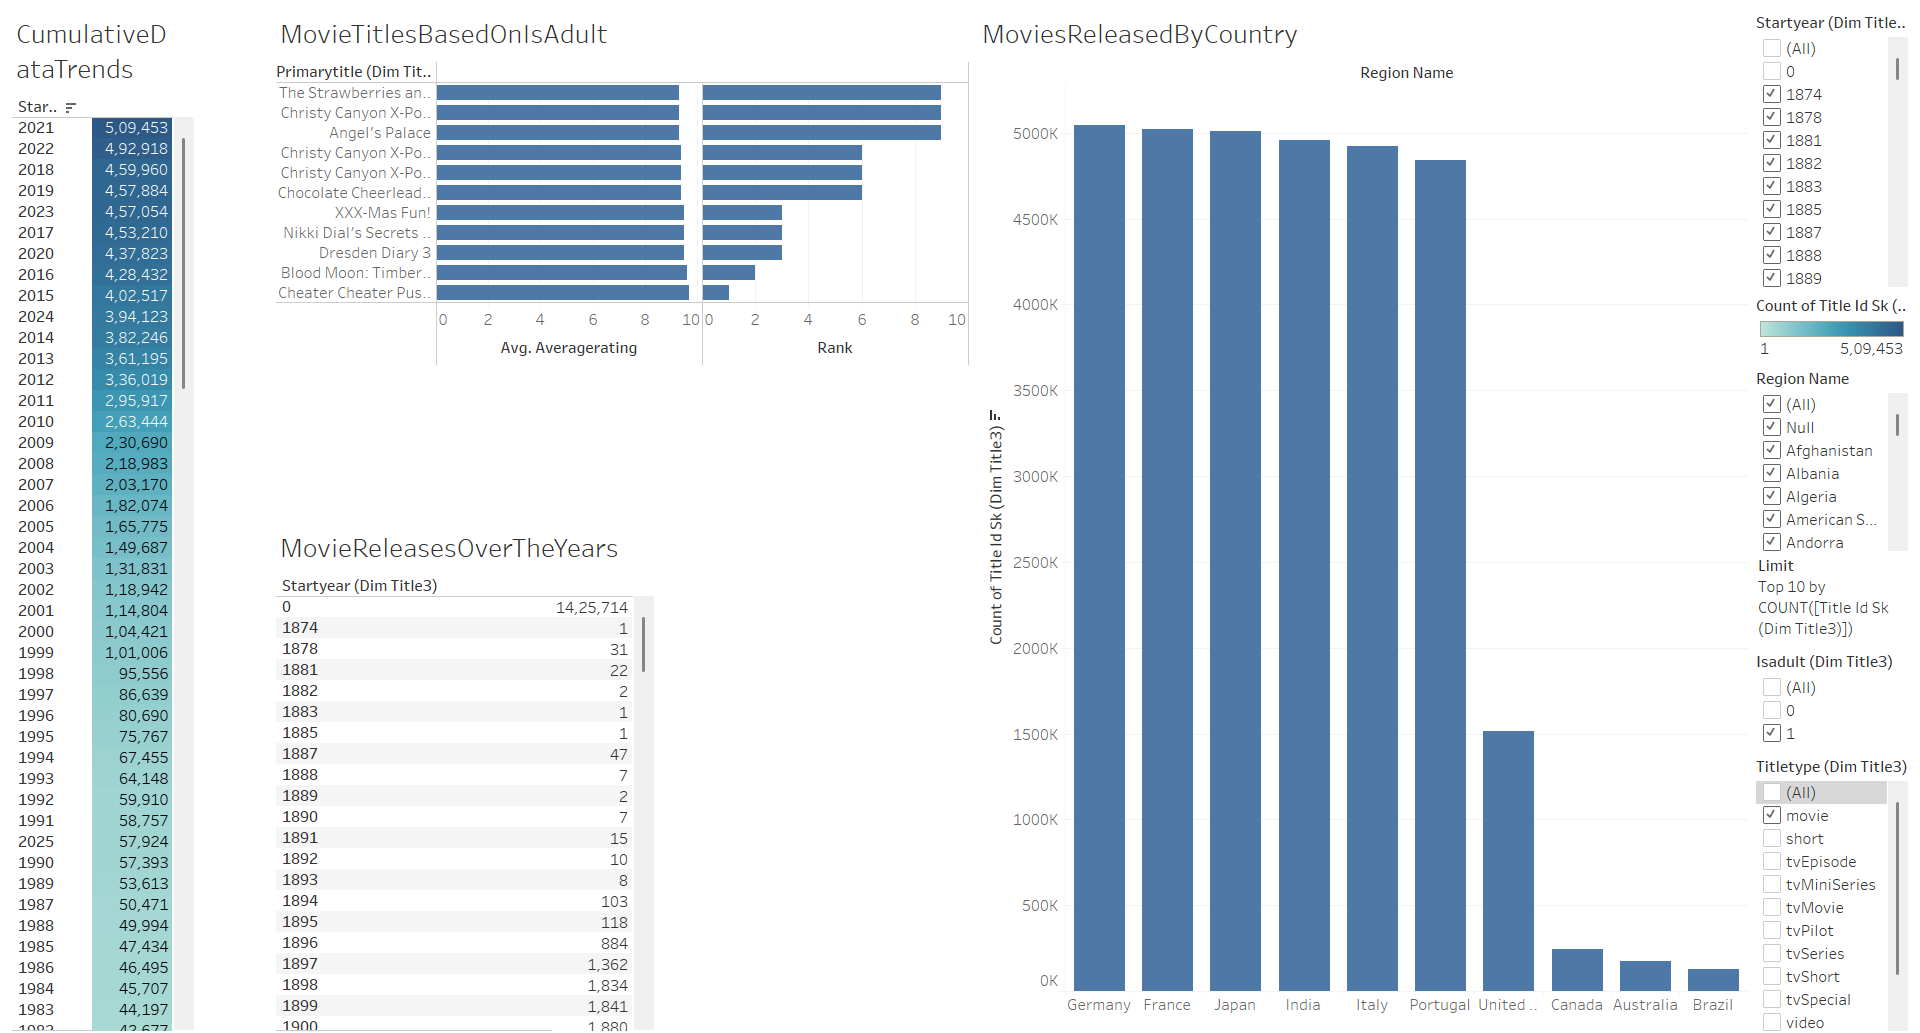

The page's visual inventory and layout, read from the dashboard file:
{"tool":"tableau","page":{"name":"MovieTrendsAndReleases","canvas":[1000,1000],"units":"permille","ordinal":1},"visuals":[{"type":"worksheet","title":"CumulativeDataTrends","mark":"Square","rows":["STARTYEAR (DIM_TITLE3)"],"box":[4.8,9.4,135.2,981.2]},{"type":"worksheet","title":"MovieTitlesBasedOnIsAdult","mark":"Automatic","rows":["PRIMARYTITLE (DIM_TITLE3)"],"cols":["AVERAGERATING","Calculation_1200772306724937728"],"box":[140,9.4,359.7,490.6]},{"type":"worksheet","title":"MoviesReleasedByCountry","mark":"Automatic","rows":["TITLE_ID_SK (DIM_TITLE3)"],"cols":["REGION_NAME"],"box":[499.7,9.4,398.9,981.2]},{"type":"filter","title":"CumulativeDataTrends","param":"[federated.0ebl56l1cc1da210mgpid1301scw].[none:STARTYEAR (DIM_TITLE3):ok]","box":[898.6,9.4,96.6,257.3]},{"type":"legend","title":"CumulativeDataTrends","param":"[federated.0ebl56l1cc1da210mgpid1301scw].[cnt:TITLE_ID_SK (DIM_TITLE3):qk]","box":[898.6,266.7,96.6,85.8]},{"type":"filter","title":"MoviesReleasedByCountry","param":"[federated.0ebl56l1cc1da210mgpid1301scw].[none:REGION_NAME:nk]","box":[898.6,352.5,96.6,257.3]},{"type":"worksheet","title":"MovieReleasesOverTheYears","mark":"Automatic","rows":["STARTYEAR (DIM_TITLE3)"],"box":[140,500,359.7,490.6]},{"type":"filter","title":"MovieTitlesBasedOnIsAdult","param":"[federated.0ebl56l1cc1da210mgpid1301scw].[none:ISADULT (DIM_TITLE3):nk]","box":[898.6,609.9,96.6,123.4]},{"type":"filter","title":"MovieTitlesBasedOnIsAdult","param":"[federated.0ebl56l1cc1da210mgpid1301scw].[none:TITLETYPE (DIM_TITLE3):nk]","box":[898.6,733.2,96.6,257.4]}]}

Visuals, with their boxes on the dashboard's canvas, which has no fixed pixel size, in thousandths of its width and height (x1, y1, x2, y2). These are canvas units, not pixel positions in the 1920x1033 screenshot, which may show the page scaled, cropped or inside an application window:
"CumulativeDataTrends" worksheet (Square marks): bbox=[5, 9, 140, 991]
"MovieTitlesBasedOnIsAdult" worksheet: bbox=[140, 9, 500, 500]
"MoviesReleasedByCountry" worksheet: bbox=[500, 9, 899, 991]
"CumulativeDataTrends" filter: bbox=[899, 9, 995, 267]
"CumulativeDataTrends" legend: bbox=[899, 267, 995, 352]
"MoviesReleasedByCountry" filter: bbox=[899, 352, 995, 610]
"MovieReleasesOverTheYears" worksheet: bbox=[140, 500, 500, 991]
"MovieTitlesBasedOnIsAdult" filter: bbox=[899, 610, 995, 733]
"MovieTitlesBasedOnIsAdult" filter: bbox=[899, 733, 995, 991]
